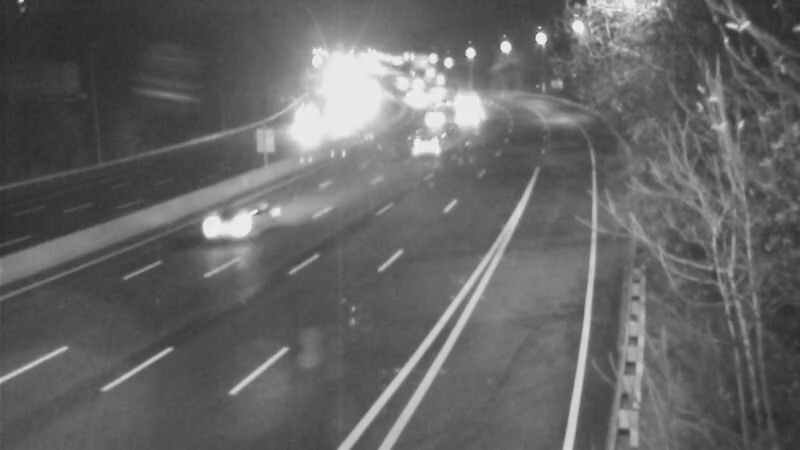vehicle: (196, 182, 276, 262), (391, 75, 441, 125), (436, 75, 486, 125), (433, 80, 483, 130), (439, 92, 489, 142), (404, 92, 454, 142), (400, 125, 450, 175), (276, 109, 326, 159)
